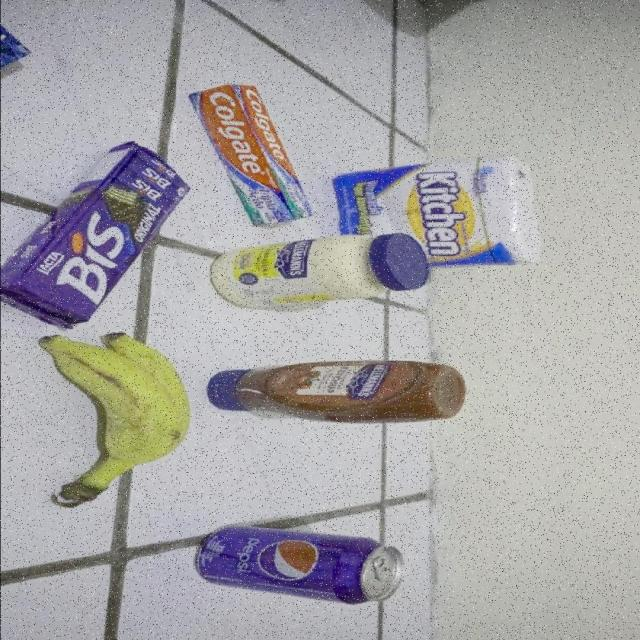Banana: (42, 333, 190, 507)
Gelatine: (0, 0, 33, 87)
Ketchup: (207, 362, 467, 424)
Mayonnaise: (207, 234, 427, 309)
Napkin: (331, 155, 541, 272)
SodaCan: (191, 526, 402, 604)
Toothpaste: (189, 86, 315, 226)
